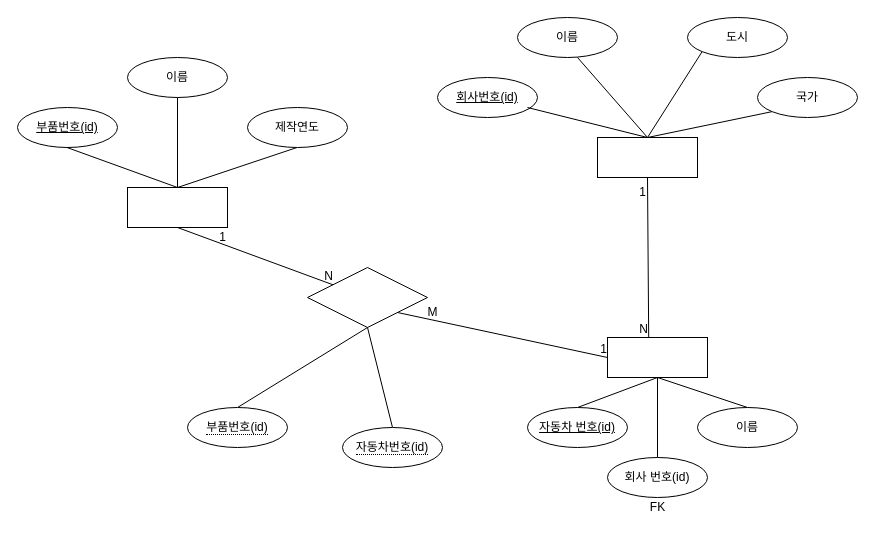
Some shapes in this 875 by 540 pixel diagram are drawn without their labels. The centre of each missing label's shape, as x and y in pixels:
부품: point (177, 207)
자동차: point (657, 357)
자동차 회사: point (647, 157)
조립: point (367, 297)
